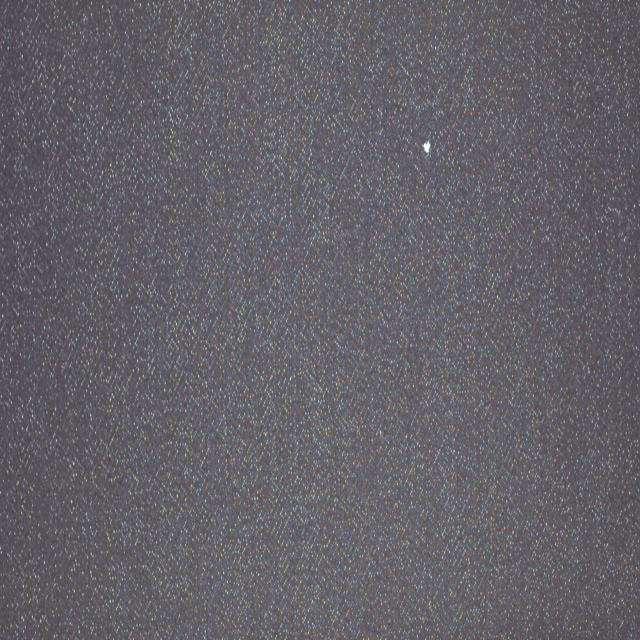Knot: (423, 139, 430, 154)
